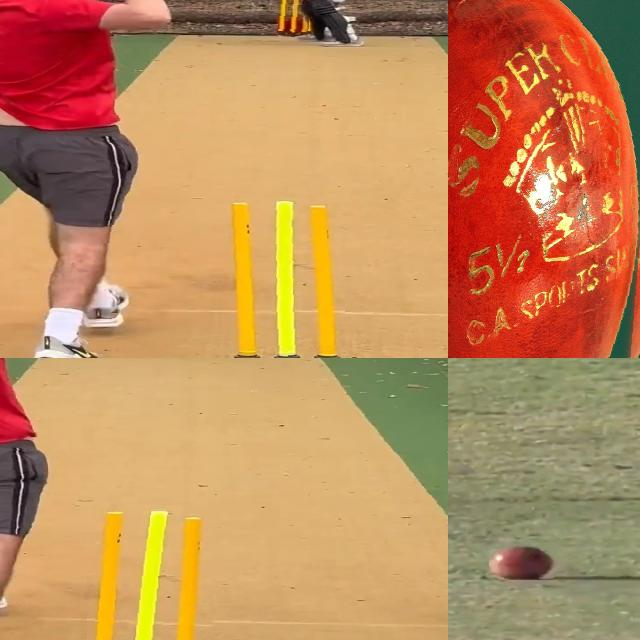Cricket ball: (448, 0, 640, 358), (489, 544, 557, 580)
Stumps: (211, 201, 345, 358), (87, 506, 221, 640), (278, 0, 312, 37)
